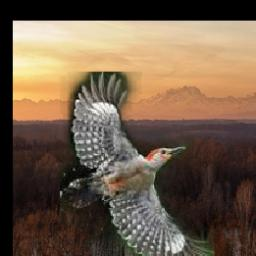Woodpecker: (60, 73, 215, 256)
